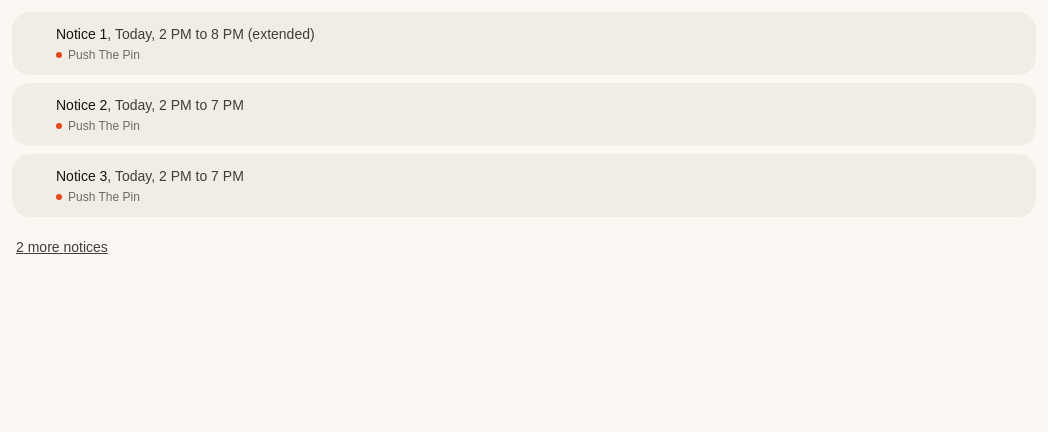
AreaStrip › renders nothing when empty, 3 rows plus N more, extended, and select + share
Later steps or results of the test are not shown.
Check: the text ", Today, 2 PM to 8 PM (extended)" is shown, box [107, 26, 315, 42]
Click the button "2 more notices": [62, 247] box [12, 225, 112, 269]
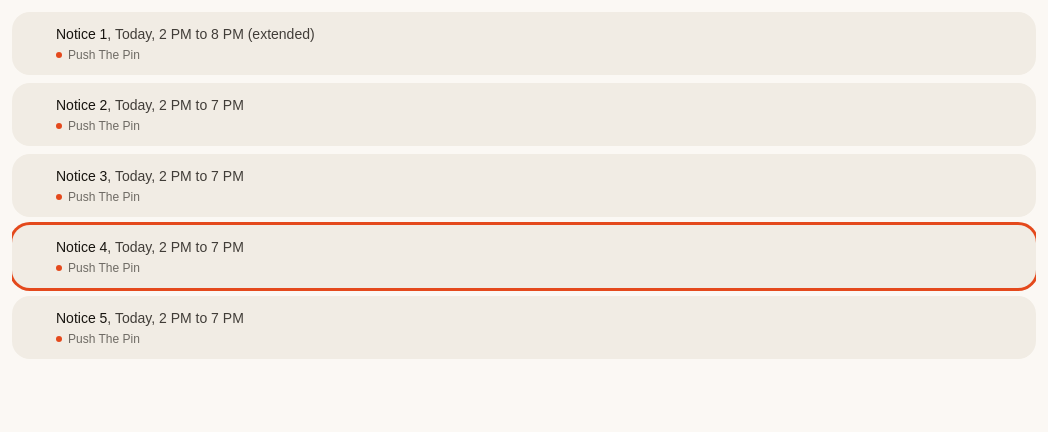
Check: the text "Notice 5" is shown, box [56, 310, 107, 326]
Click the text "Notice 1": [185, 34] box [56, 24, 315, 44]
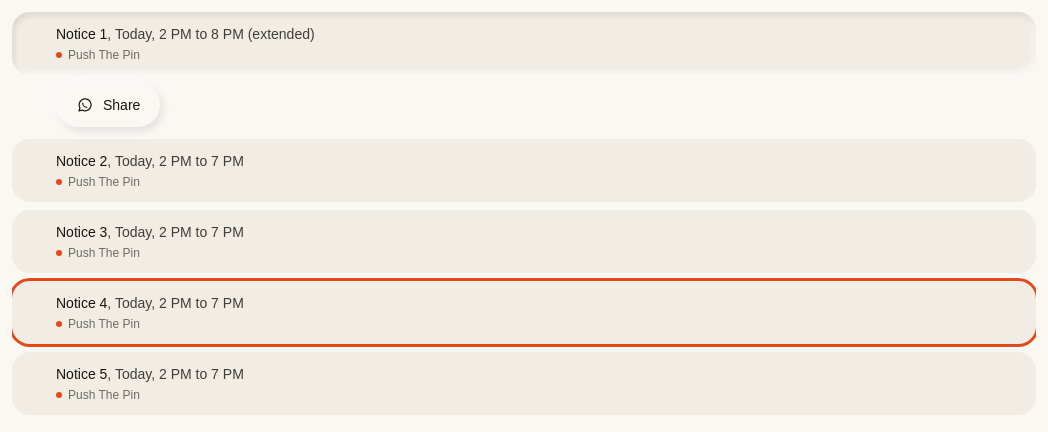
Check: the button "Share" is shown, box [56, 83, 160, 127]
